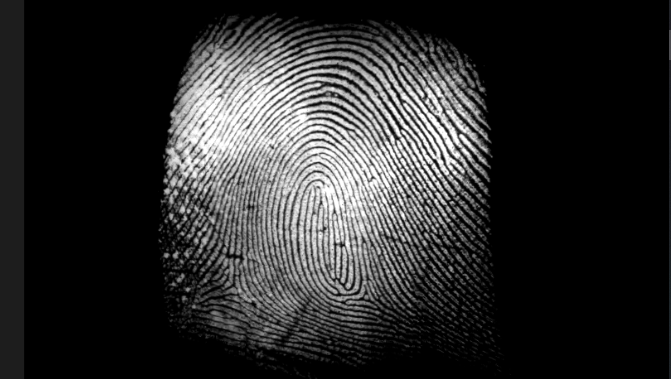deltas: (207, 261, 256, 303), (345, 275, 387, 312)
nucleo: (292, 169, 335, 233)
